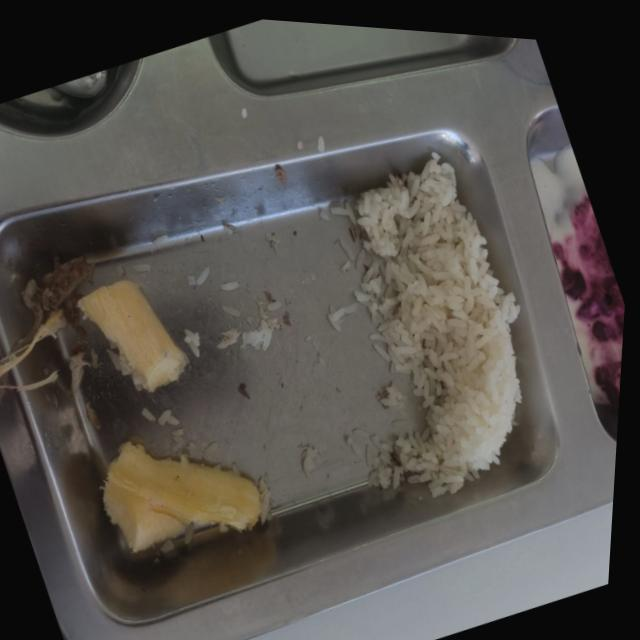arroz: (353, 153, 520, 496), (378, 384, 402, 407), (327, 307, 341, 329), (242, 338, 248, 344), (240, 335, 242, 337)
yuca: (102, 441, 260, 551), (76, 279, 186, 390)
